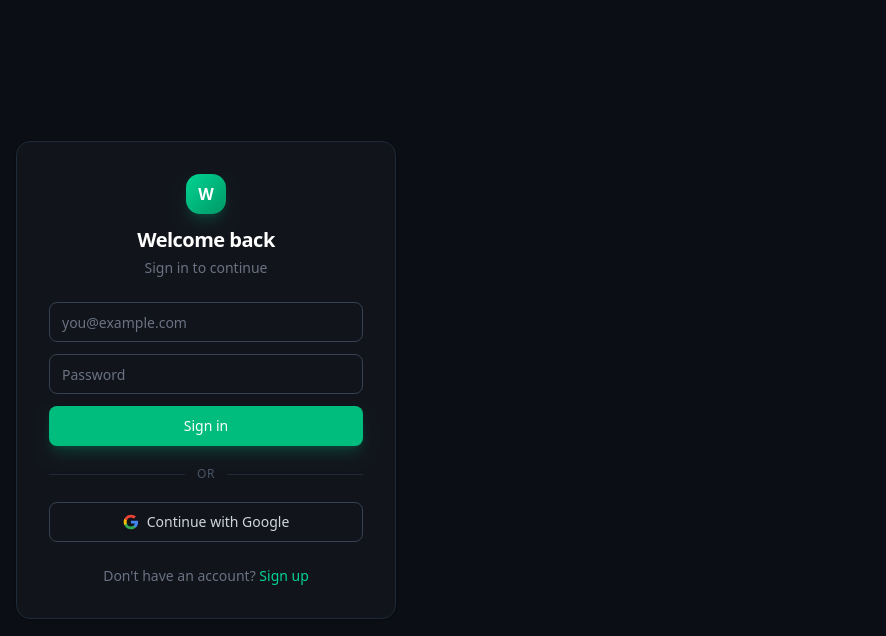
Test case: Auth — register submission › shows success toast text after successful registration
Step 1. Click the button "Sign up" → click(284, 576), box [259,566,309,586]
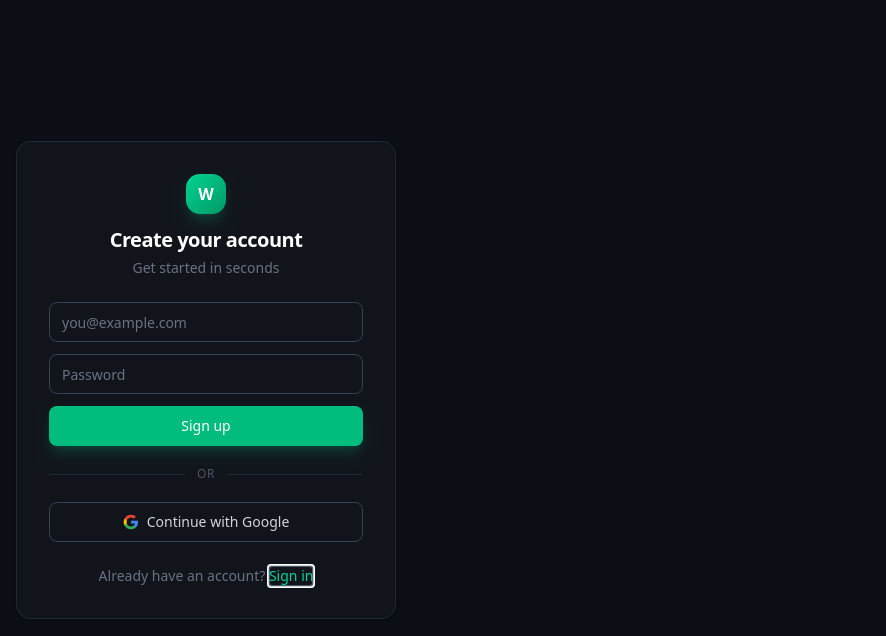
Step 2. Type "new@axis.dev" into the field with placeholder "you@example.com" → (206, 322), box [49,302,363,342]
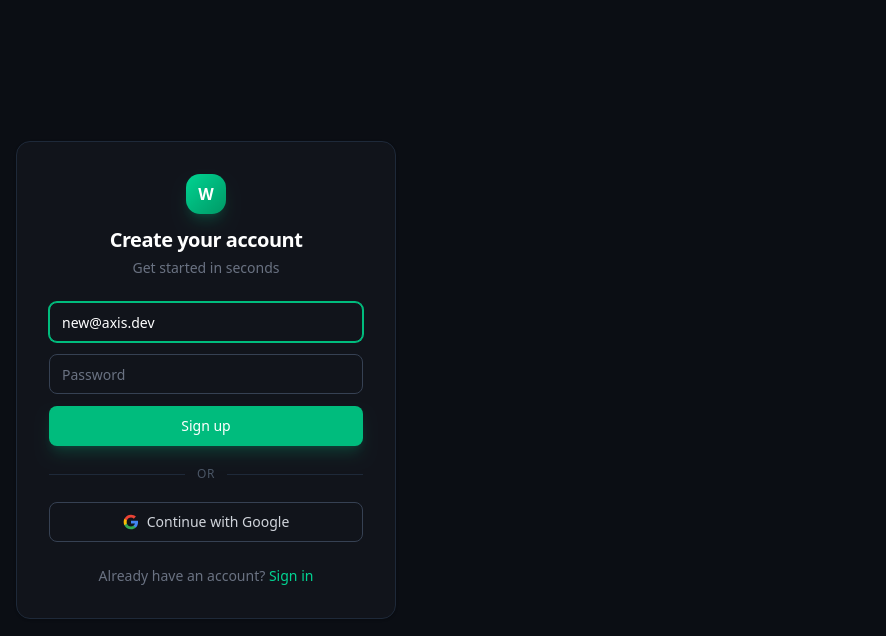
Step 3. Type "pass123" into the password field with placeholder "Password" → (206, 374), box [49,354,363,394]
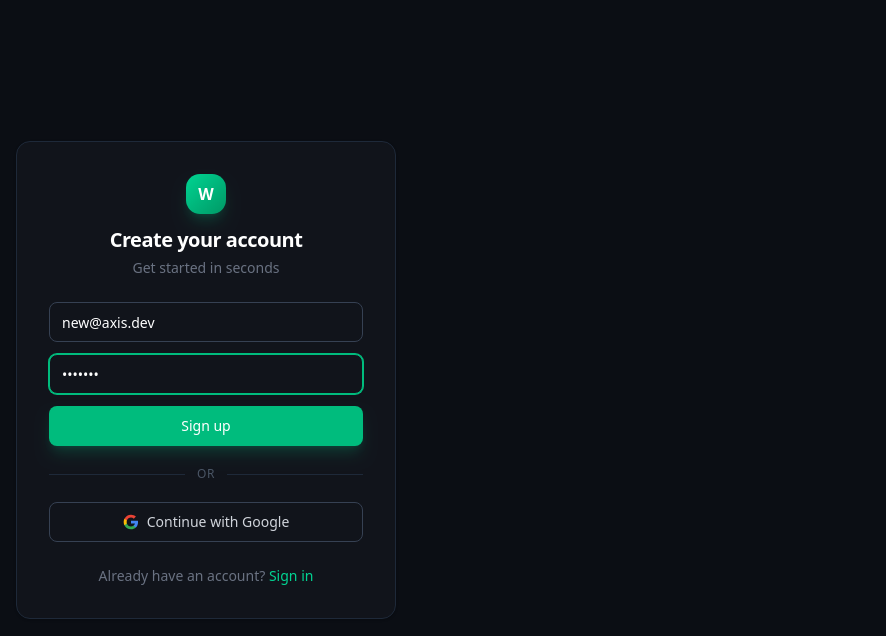
Step 4. Click the button "Sign up" → click(206, 426), box [49,406,363,446]
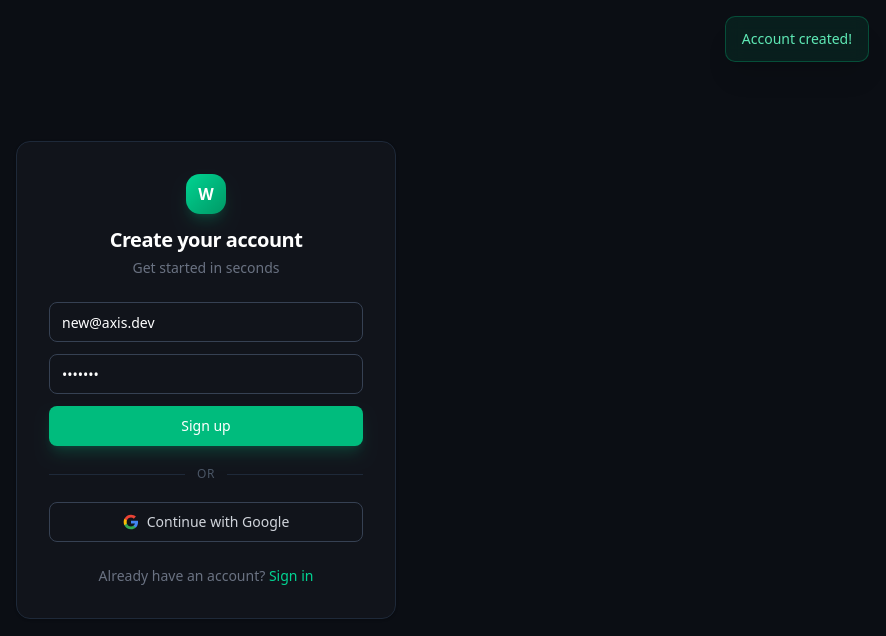
Now the text "Account created!" is shown, box [725,16,869,62]
